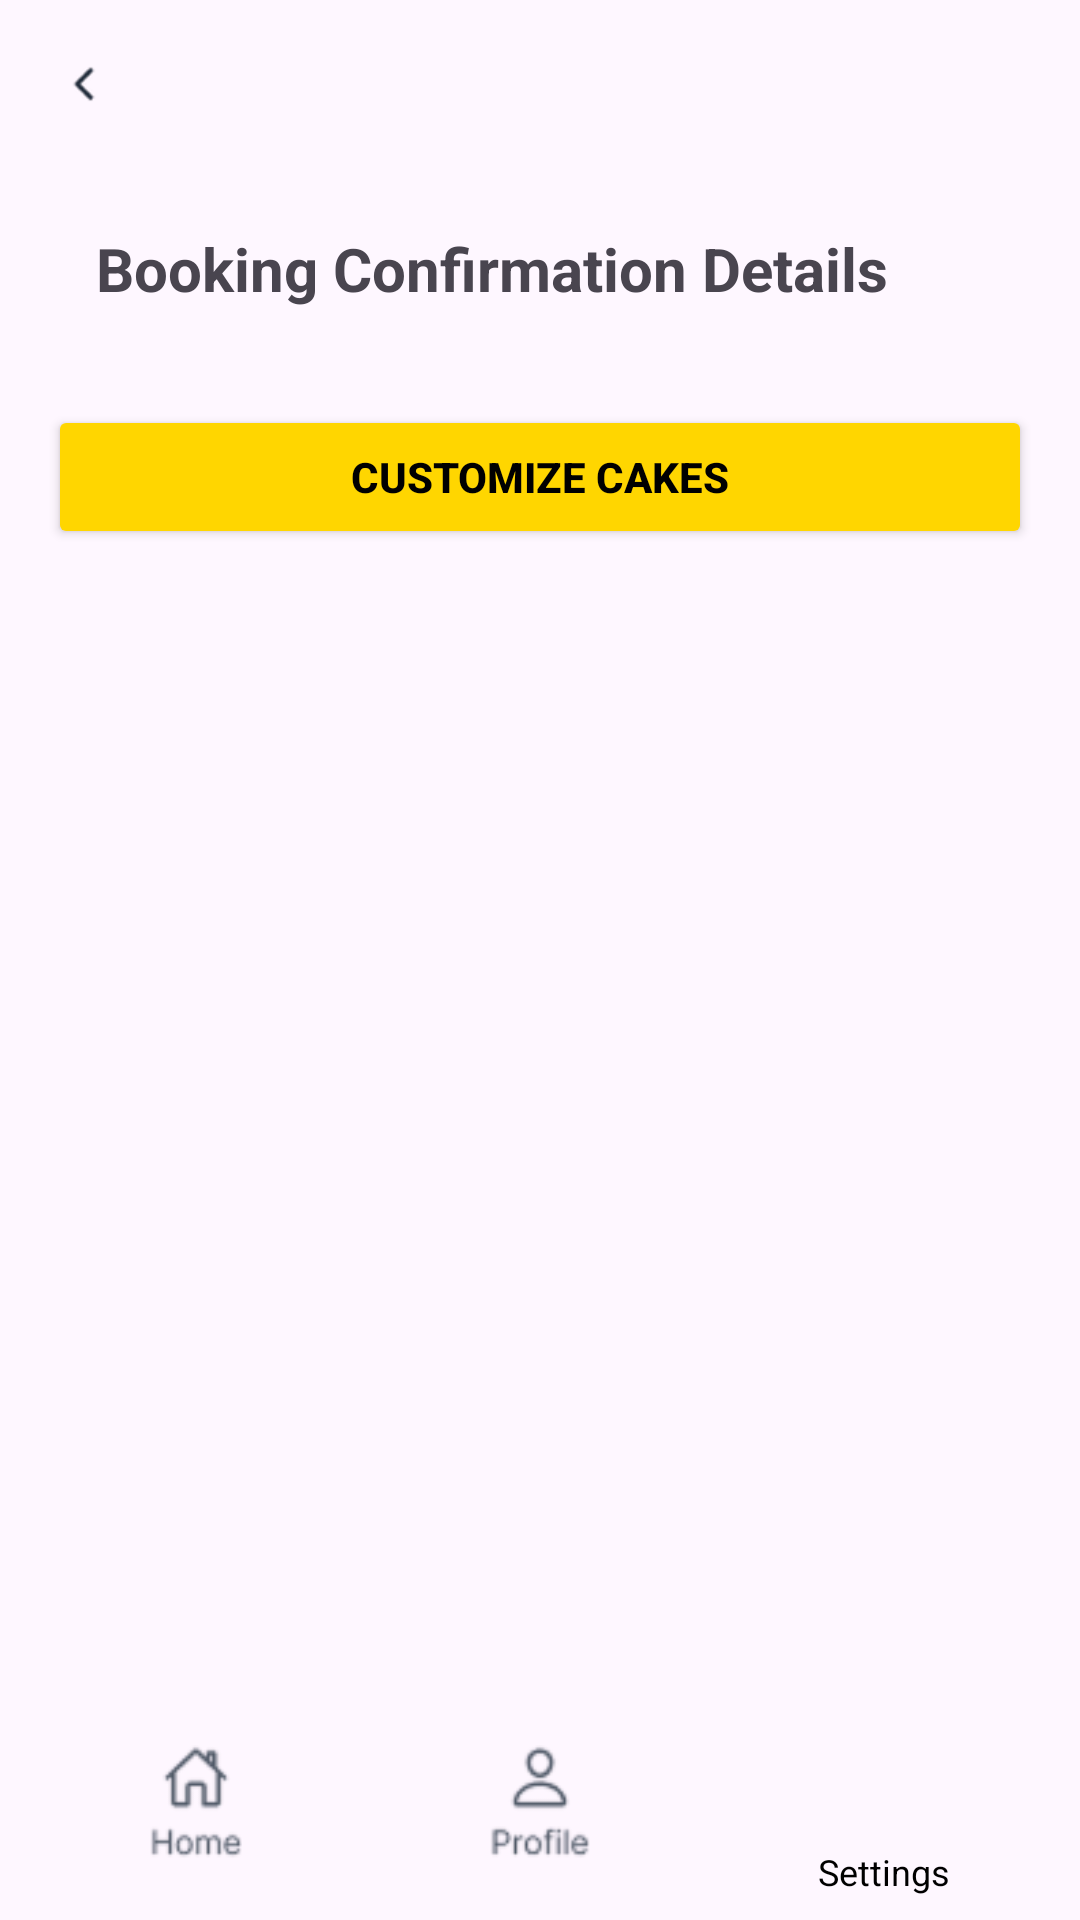

Icons on this 1080px×1920px Android screen, each with the point to tap as point (x, y):
Back: point (84, 84)
